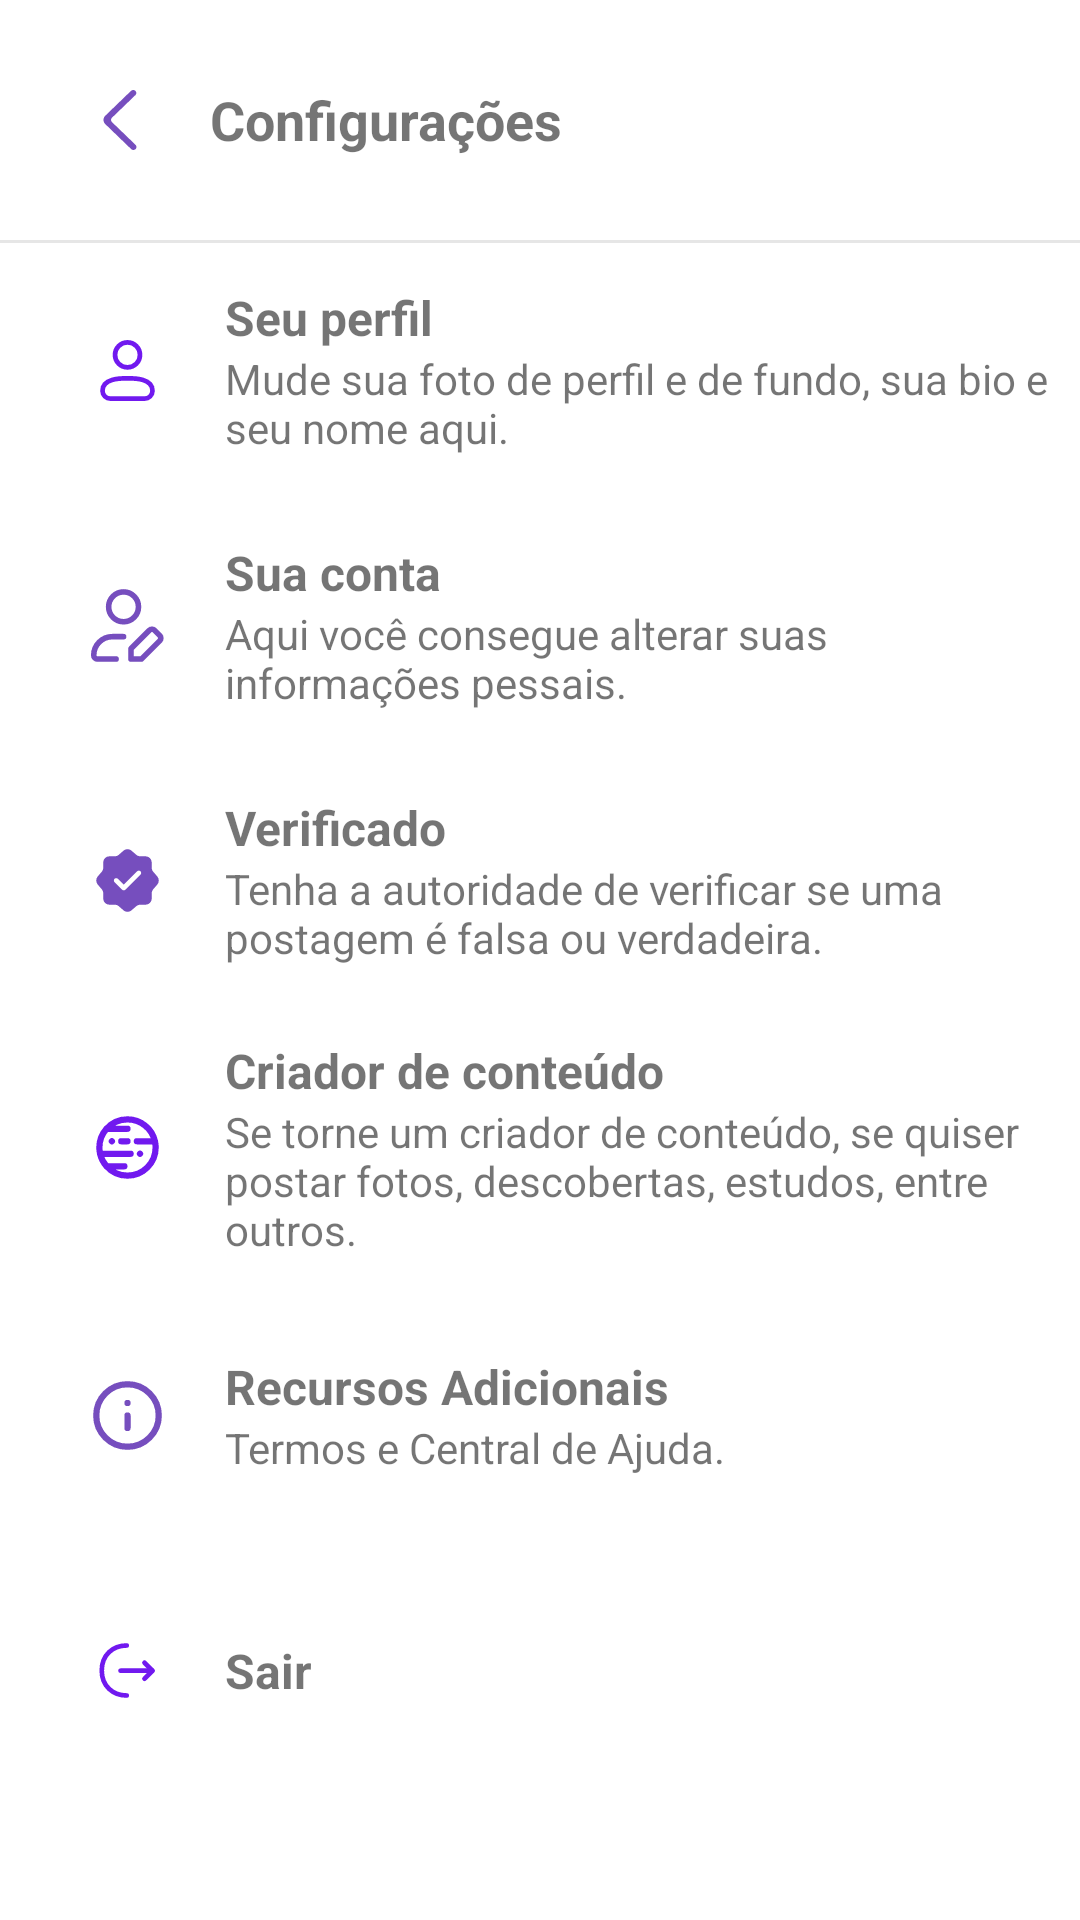

Screen size 1080 × 1920. Icon name, then its center in pixels as (x,y):
info: (127,1415)
user: (127,370)
user edit: (127,625)
voltar: (120,120)
